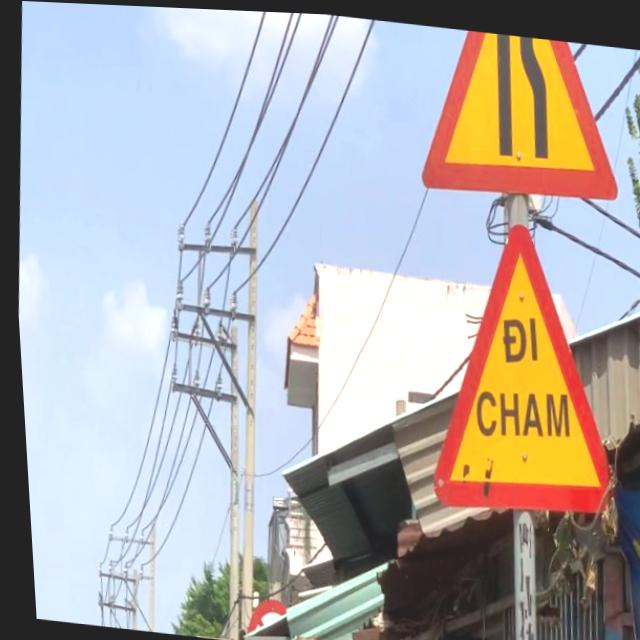Di cham: (399, 198, 638, 541)
